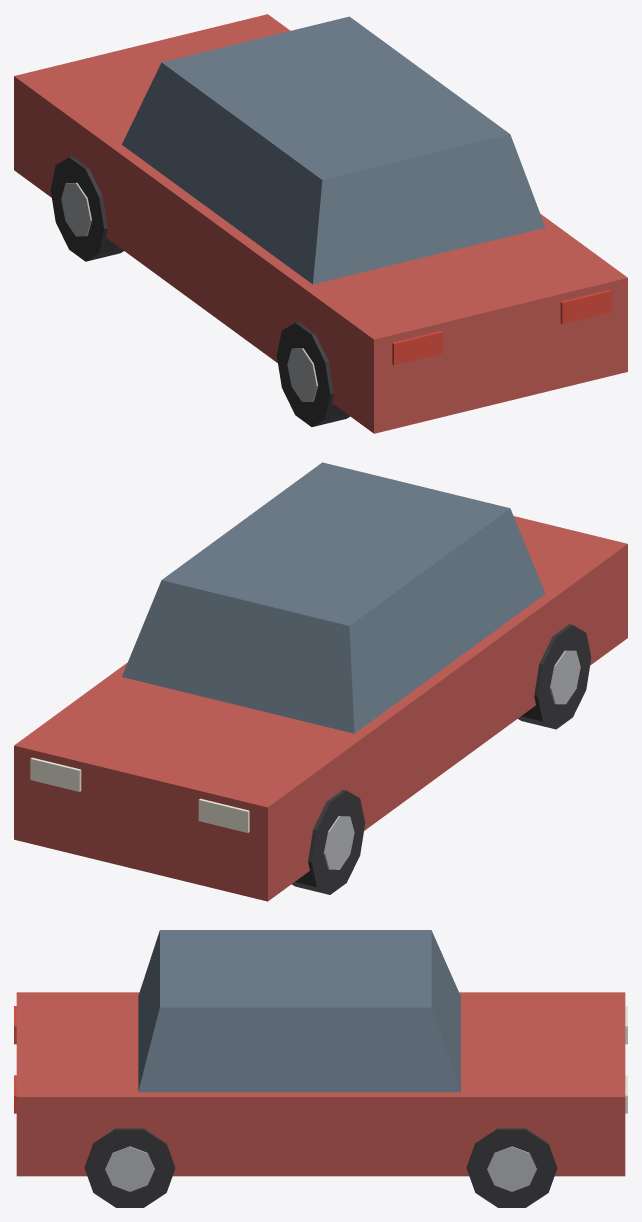
The model's file is car_npc_sedan_red.glb.
3 renders of one model, top to bottom at view 1: azimuth 30°, elevation 25°; view 2: azimuth 150°, elevation 25°; view 3: azimuth 270°, elevation 25°, orthographic. The views are drawn at different scales.
Visible parts, largest first — view 1: car_sedan_red; view 2: car_sedan_red; view 3: car_sedan_red.
Part boxes in pixels (x1=…): car_sedan_red: x1=14, y1=14, x2=627, y2=433; car_sedan_red: x1=14, y1=462, x2=627, y2=901; car_sedan_red: x1=14, y1=930, x2=627, y2=1207.
Size of the model in its own units: 1.82 by 1.44 by 4.34.
